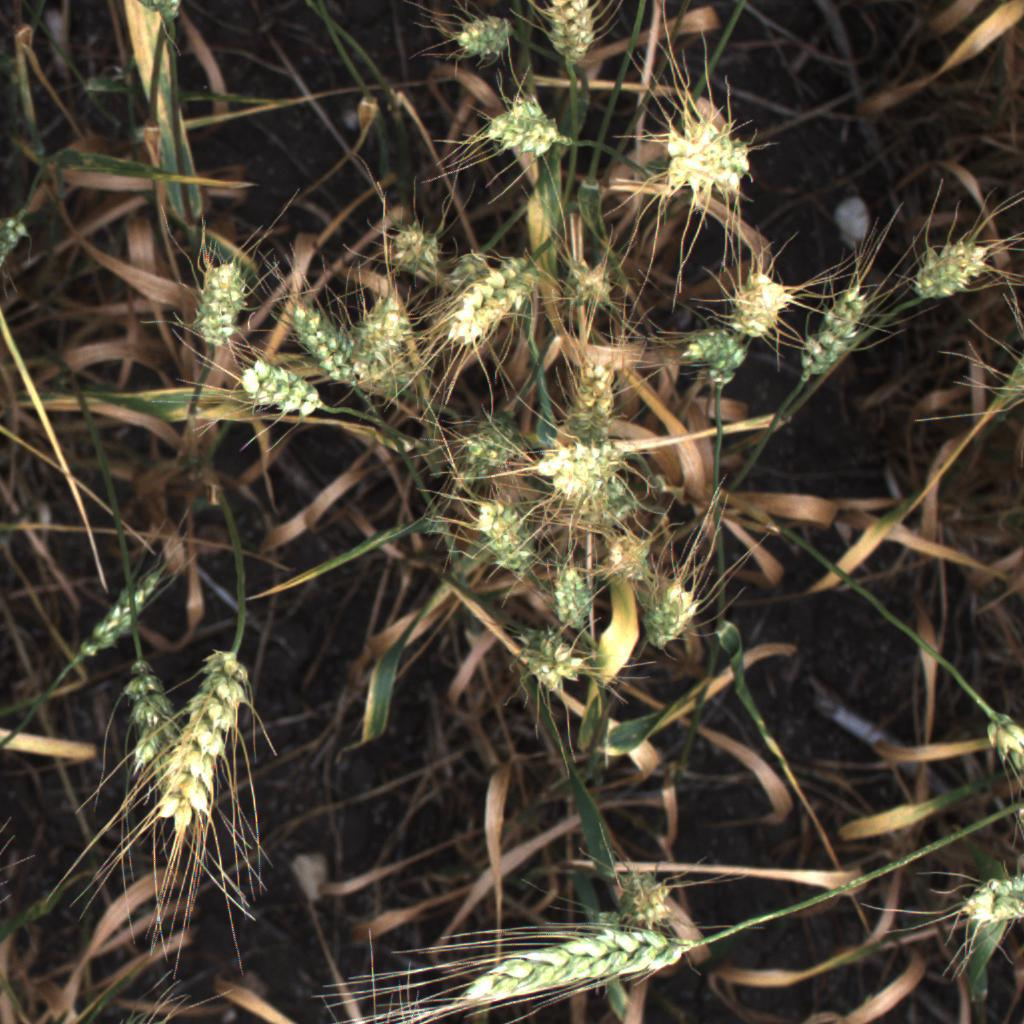0-0: (432, 918, 710, 1013), (150, 643, 264, 845), (114, 656, 204, 839), (424, 245, 551, 365), (590, 530, 704, 660), (651, 106, 770, 226), (66, 550, 183, 669), (266, 282, 372, 398), (167, 231, 261, 357), (791, 272, 884, 389), (468, 80, 574, 170), (725, 254, 818, 347), (899, 229, 1002, 311), (667, 324, 772, 403), (219, 357, 338, 426), (524, 437, 641, 503), (525, 0, 615, 82), (459, 496, 542, 583), (341, 281, 418, 373), (562, 348, 637, 440), (512, 623, 584, 709), (949, 864, 1024, 943), (367, 210, 454, 278), (445, 399, 522, 475), (609, 866, 696, 933), (561, 235, 628, 322), (437, 3, 524, 69), (546, 553, 600, 629), (981, 696, 1024, 787), (0, 190, 40, 283), (590, 481, 648, 527)
